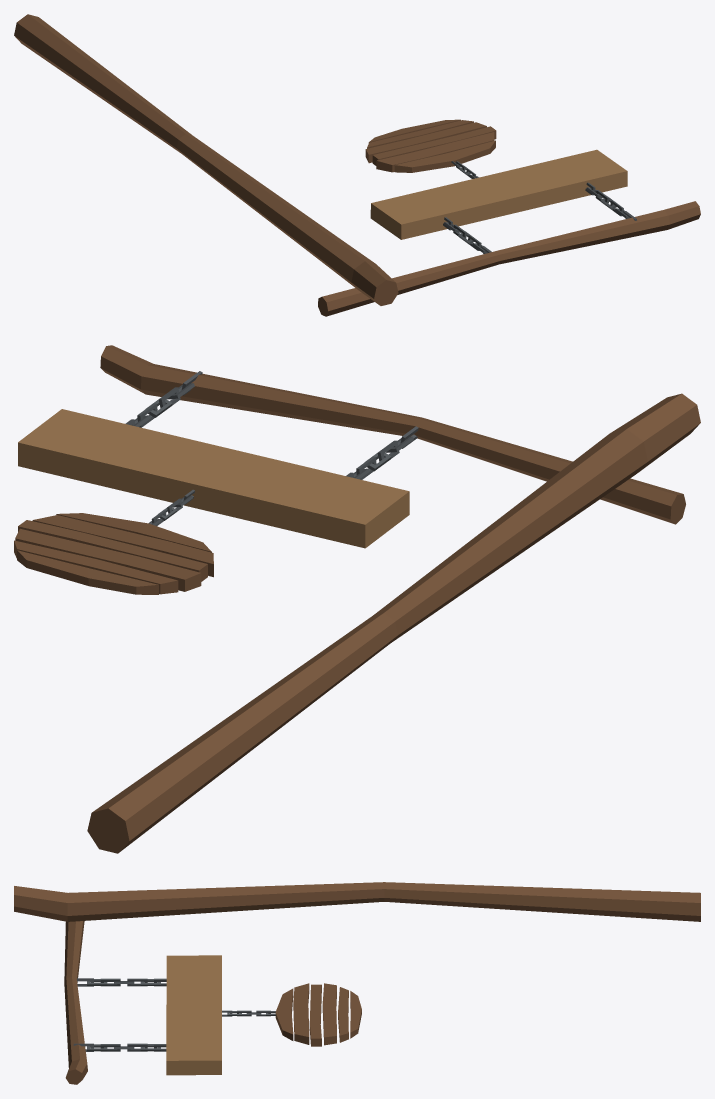
Rendered from Panel_12.fbx.
The picture shows the model from 3 angles, top to bottom: view 1: azimuth 30°, elevation 25°; view 2: azimuth 150°, elevation 25°; view 3: azimuth 270°, elevation 25°; orthographic projection. The views are drawn at different scales.
Visible parts, largest first — view 1: Poteau 1*3 chaines LOW.002; view 2: Poteau 1*3 chaines LOW.002; view 3: Poteau 1*3 chaines LOW.002.
Boxes of the visible parts, box(x1,y1,x2,y2) form: Poteau 1*3 chaines LOW.002: box(14, 14, 700, 316); Poteau 1*3 chaines LOW.002: box(14, 345, 700, 853); Poteau 1*3 chaines LOW.002: box(14, 882, 700, 1084).
Bounding box in the file's own units: 94.04 × 13.25 × 160.
